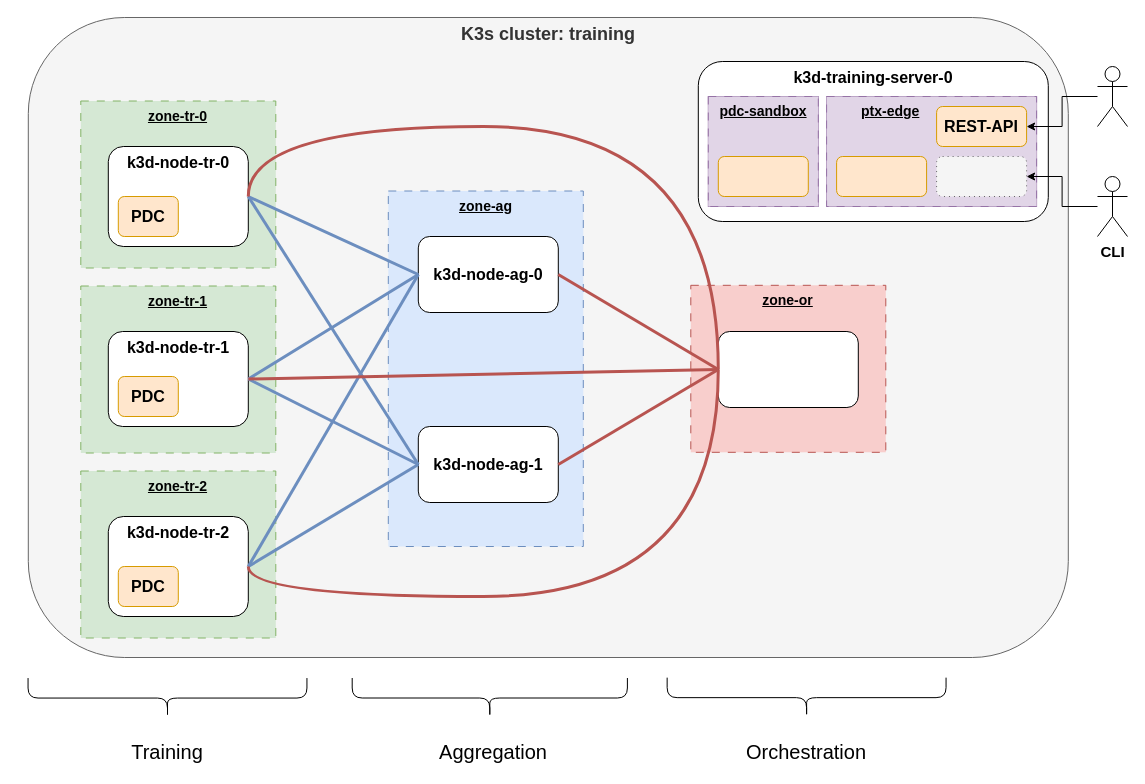
This 1145x784 diagram has some shape labels left out. Here are the shapes that lost their labels. From the top down, the centre of each, then its label:
At point (1112, 96): "API".
At point (762, 176): "CATALOG".
At point (881, 176): "SCHEDUL".
At point (981, 176): "CONTROL".
At point (787, 369): "k3d-node-or -0".
